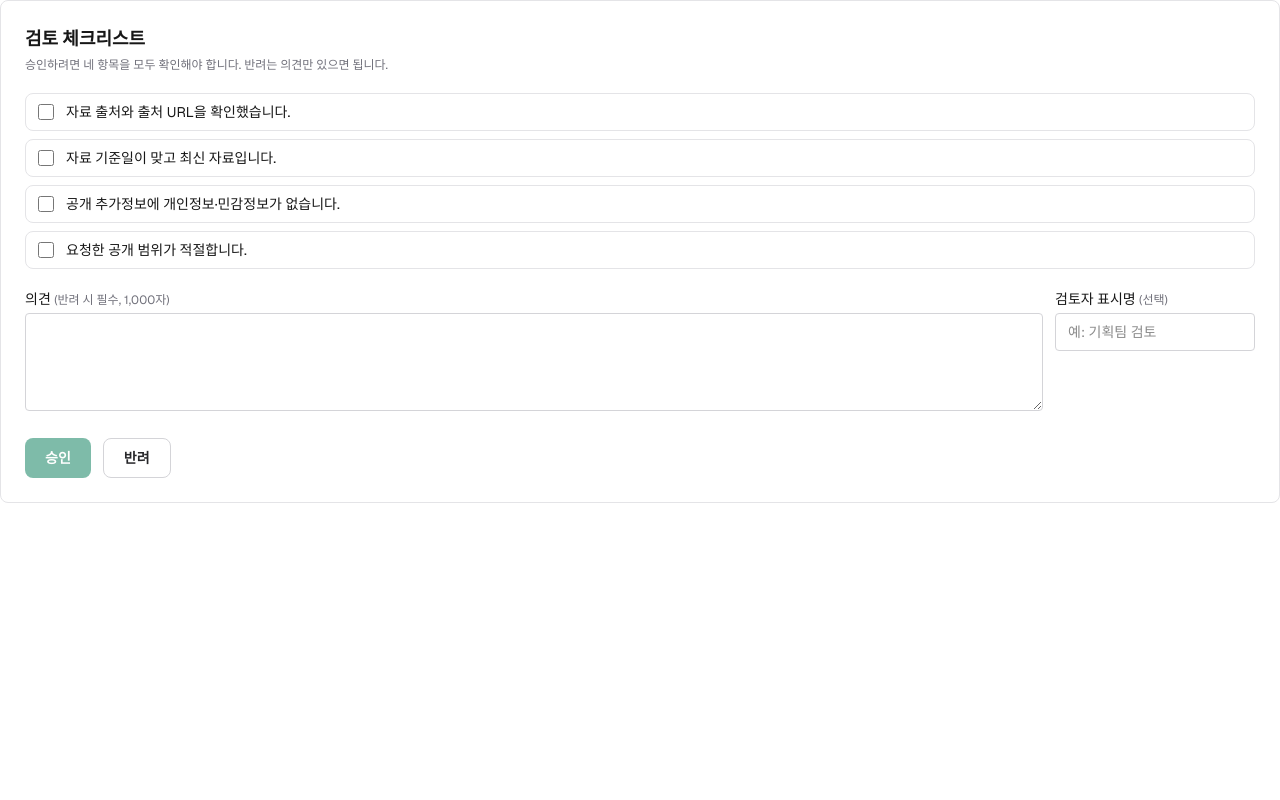
Scenario: ReviewDecisionForm › surfaces 409 conflict messages (ALREADY_DECIDED / VERSION_CHANGED) in the error slot
The width and height of the screenshot is (1280, 800).
Click the checkbox labelled "자료 출처와 출처 URL을 확인했습니다." at (46, 112), box [38, 104, 54, 120]
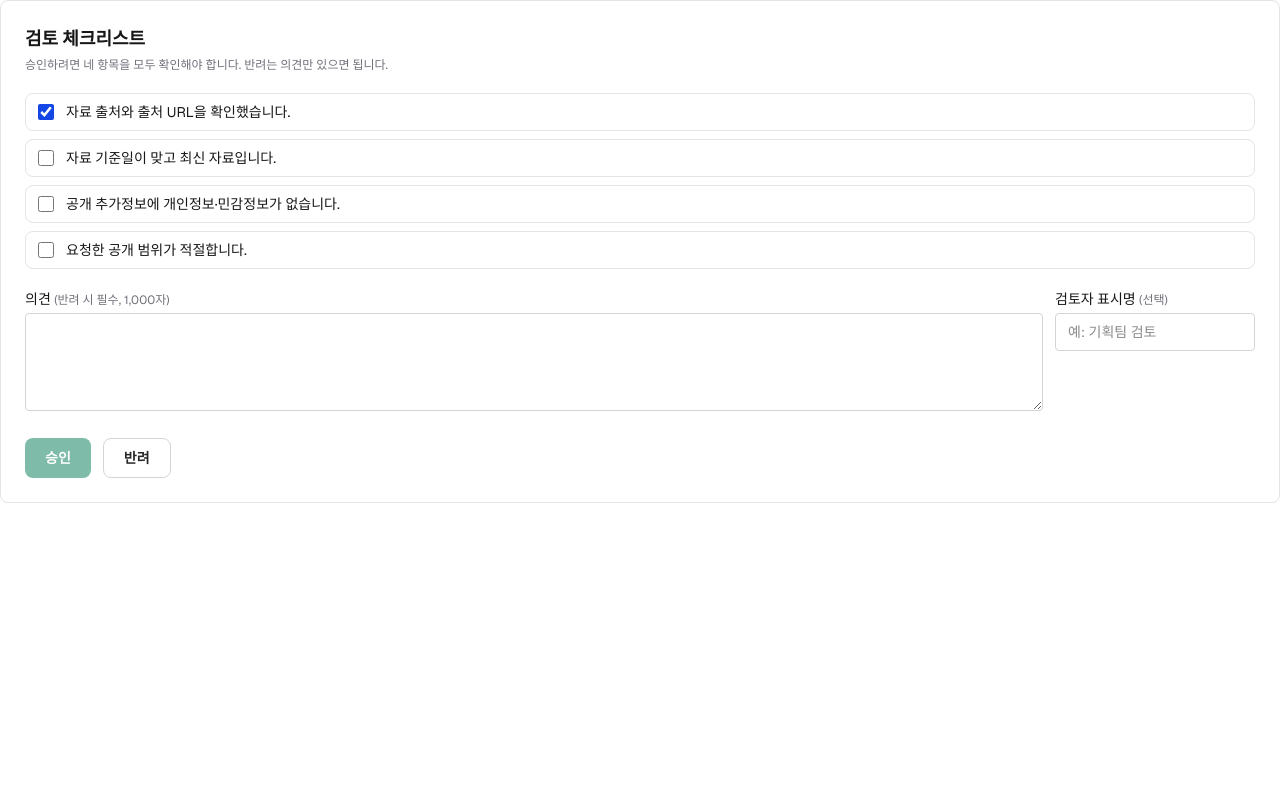
Click the checkbox labelled "자료 기준일이 맞고 최신 자료입니다." at (46, 158), box [38, 150, 54, 166]
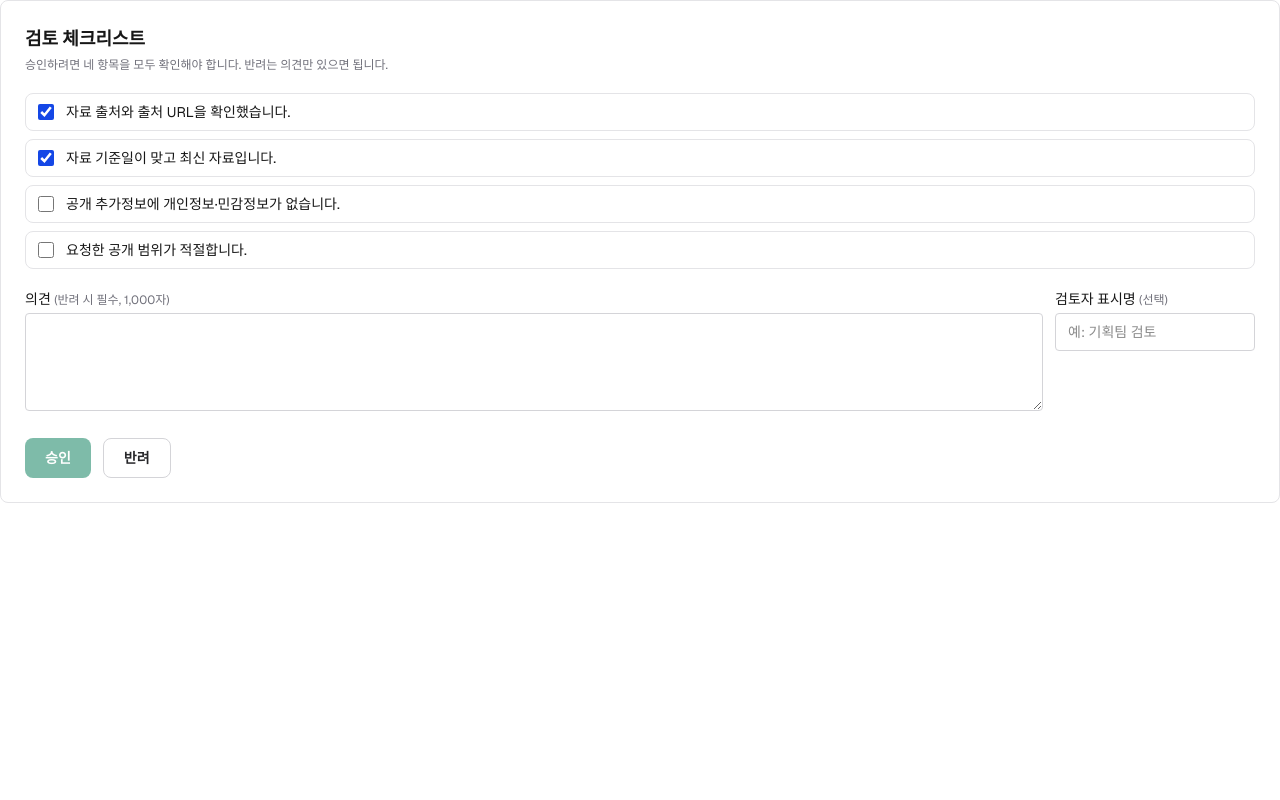
Click the checkbox labelled "공개 추가정보에 개인정보·민감정보가 없습니다." at (46, 204), box [38, 196, 54, 212]
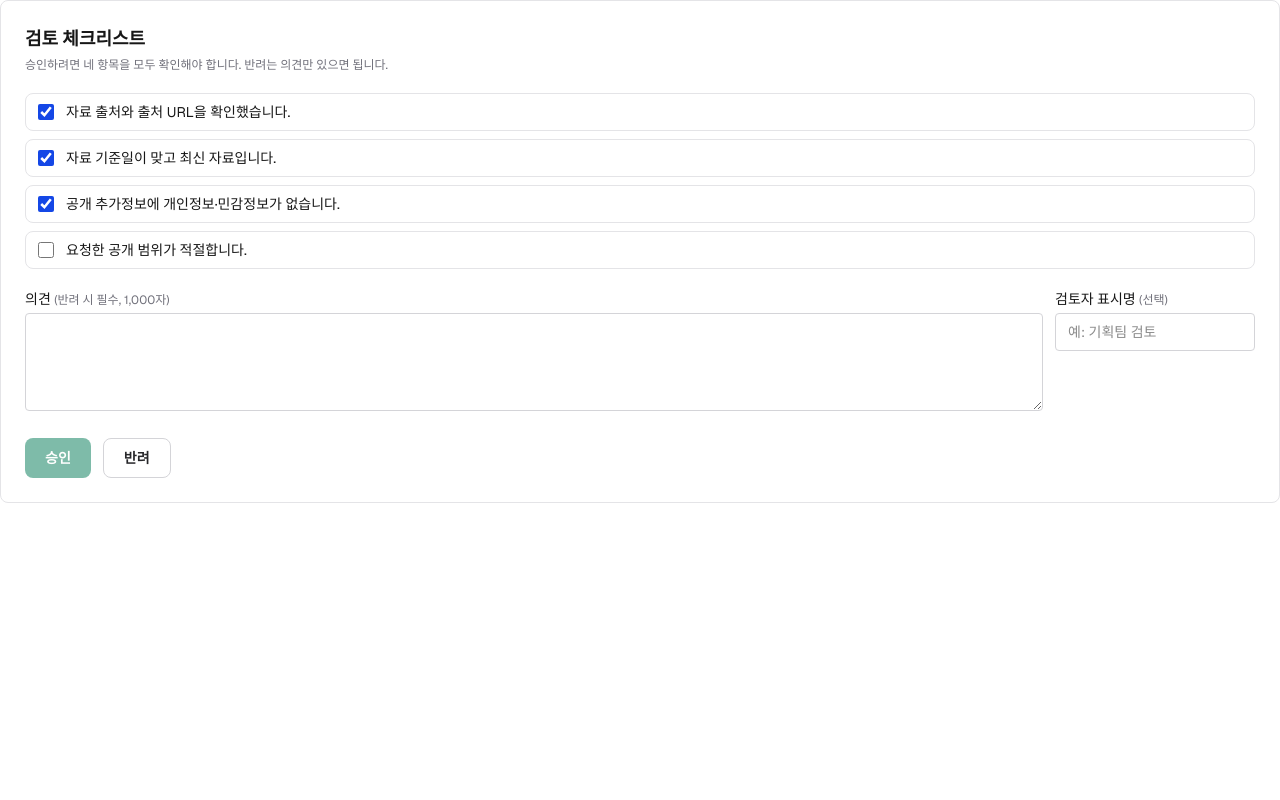
Click the checkbox labelled "요청한 공개 범위가 적절합니다." at (46, 250), box [38, 242, 54, 258]
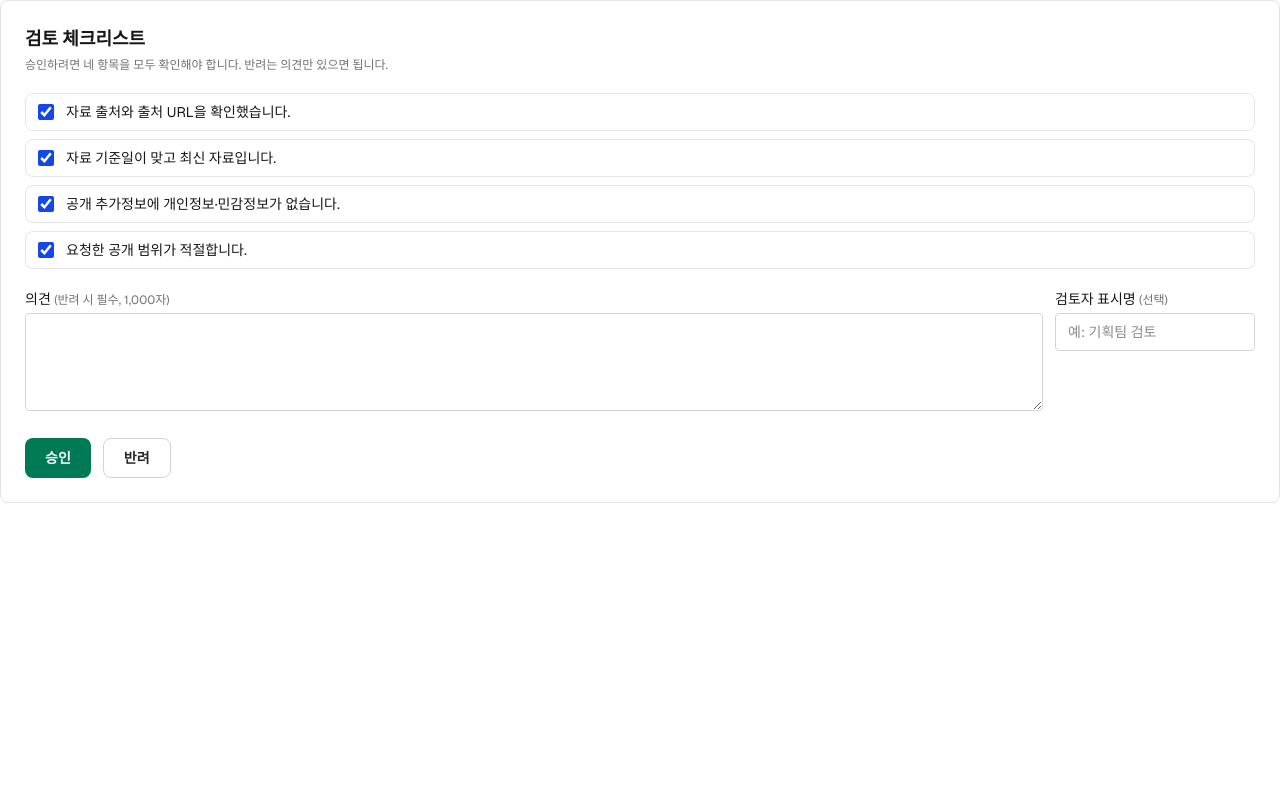
Click the button "승인" at (58, 458), box [25, 438, 91, 478]
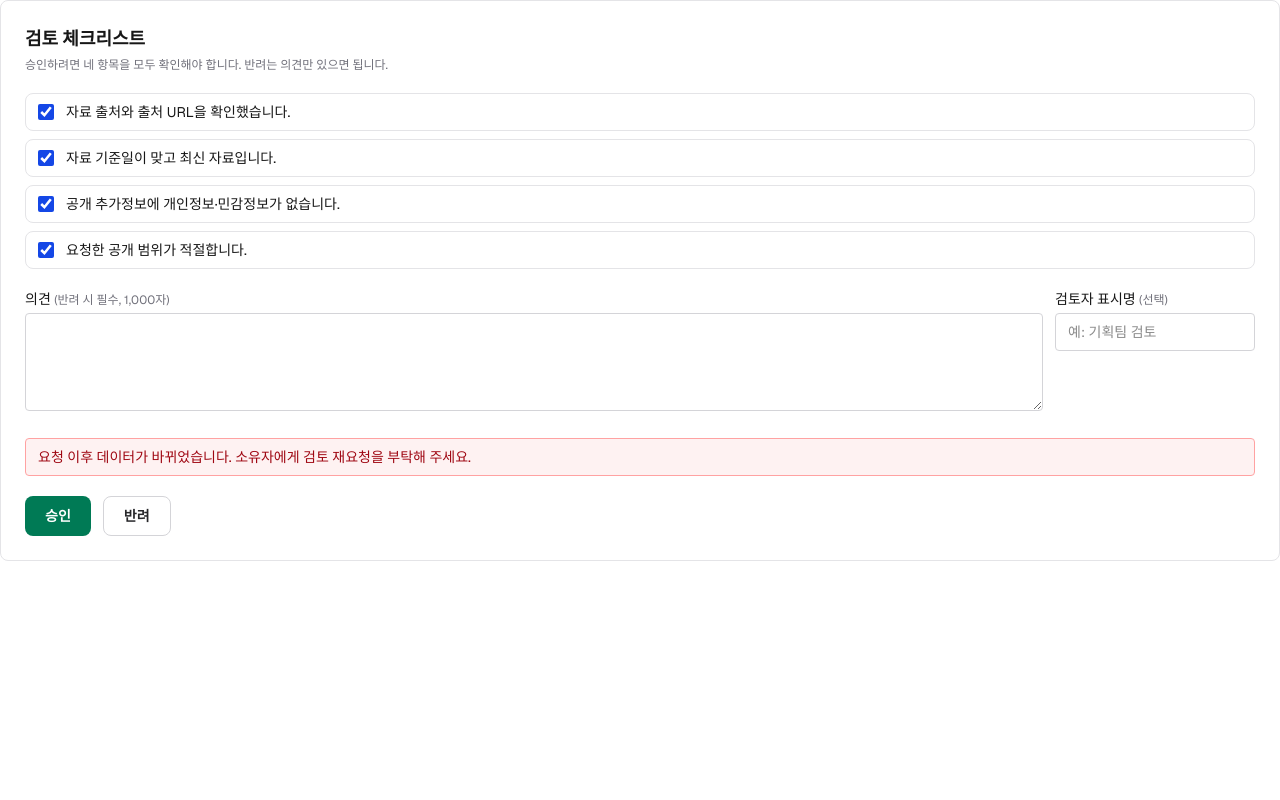
expect the button "승인" is enabled: met, box [25, 496, 91, 536]
expect the text "요청 이후 데이터가 바뀌었습니다" is shown: met, box [38, 448, 471, 466]
